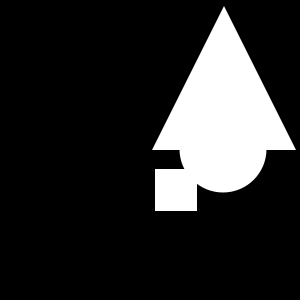circle: (155, 169, 197, 211)
rectangle: (179, 106, 266, 192)
triangle: (152, 6, 296, 150)
